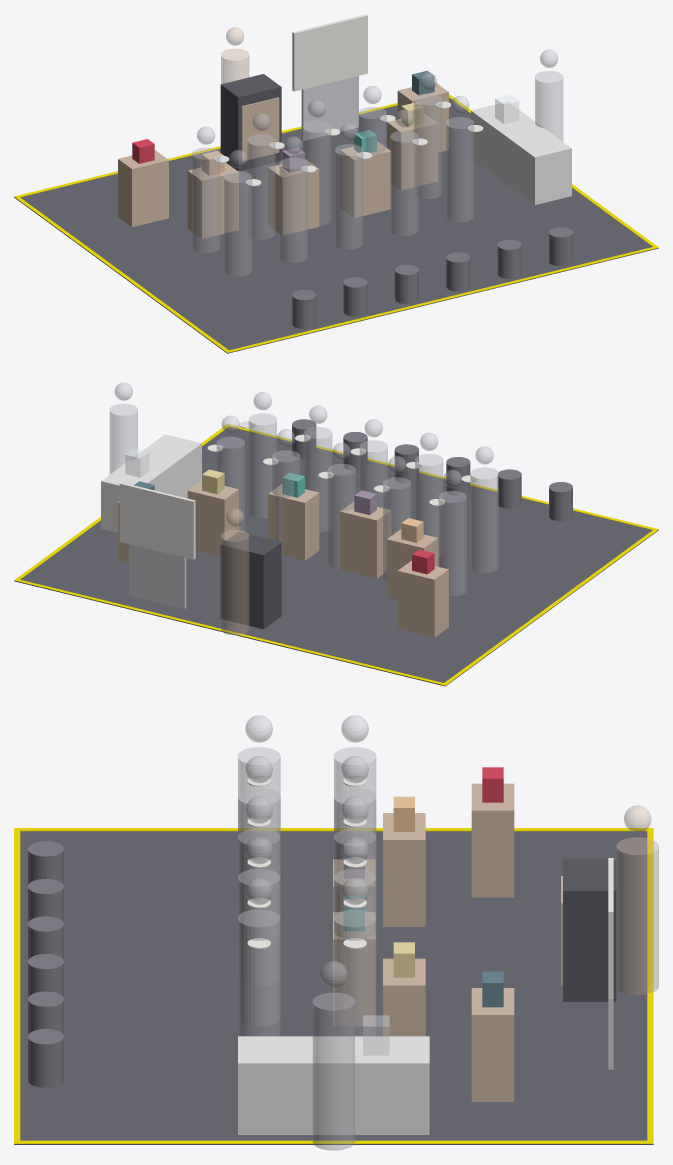
File: G04_HARAJ.glb
3 renders of one model, top to bottom at view 1: azimuth 30°, elevation 25°; view 2: azimuth 150°, elevation 25°; view 3: azimuth 270°, elevation 25°, orthographic. The views are drawn at different scales.
Parts seen in each view (by area): view 1: floor_area, bank_table, price_board, souq_stall_crate_1, souq_stall_crate_0, auctioneer_podium, souq_stall_crate_3, souq_stall_crate_2, souq_stall_crate_4, trader_9_body, trader_7_body, trader_6_body (+22 smaller); view 2: floor_area, auctioneer_podium, price_board, bank_table, souq_stall_crate_0, souq_stall_crate_2, souq_stall_crate_3, price_board_easel, trader_5_body, auctioneer_body, trader_0_body, trader_9_body (+26 smaller); view 3: floor_area, bank_table, auctioneer_podium, banker_body, auctioneer_body, trader_8_body, trader_9_body, trader_4_body, souq_stall_crate_0, souq_stall_crate_5, souq_stall_crate_1, souq_stall_crate_3 (+25 smaller).
Part boxes in pixels (left/top/right/bottom): floor_area: left=14, top=98, right=658, bottom=353; bank_table: left=471, top=101, right=571, bottom=204; price_board: left=292, top=14, right=367, bottom=91; souq_stall_crate_1: left=187, top=162, right=238, bottom=238; souq_stall_crate_0: left=118, top=150, right=168, bottom=227; auctioneer_podium: left=220, top=74, right=281, bottom=171; souq_stall_crate_3: left=340, top=141, right=391, bottom=217; souq_stall_crate_2: left=268, top=158, right=319, bottom=235; souq_stall_crate_4: left=387, top=113, right=438, bottom=190; trader_9_body: left=445, top=117, right=474, bottom=222; trader_7_body: left=335, top=144, right=363, bottom=249; trader_6_body: left=279, top=157, right=307, bottom=262; floor_area: left=14, top=427, right=658, bottom=686; auctioneer_podium: left=220, top=532, right=281, bottom=629; price_board: left=119, top=482, right=195, bottom=559; bank_table: left=101, top=434, right=201, bottom=532; souq_stall_crate_0: left=397, top=560, right=448, bottom=637; souq_stall_crate_2: left=340, top=501, right=391, bottom=578; souq_stall_crate_3: left=268, top=484, right=319, bottom=560; price_board_easel: left=129, top=544, right=186, bottom=608; trader_5_body: left=470, top=467, right=498, bottom=572; auctioneer_body: left=221, top=529, right=249, bottom=635; trader_0_body: left=438, top=491, right=466, bottom=596; trader_9_body: left=248, top=413, right=276, bottom=518; floor_area: left=14, top=831, right=653, bottom=1144; bank_table: left=238, top=1036, right=429, bottom=1134; auctioneer_podium: left=563, top=859, right=616, bottom=1001; banker_body: left=312, top=992, right=354, bottom=1150; auctioneer_body: left=616, top=837, right=658, bottom=995; trader_8_body: left=238, top=868, right=280, bottom=1026; trader_9_body: left=238, top=909, right=280, bottom=1036; trader_4_body: left=334, top=909, right=376, bottom=1036; souq_stall_crate_0: left=471, top=783, right=514, bottom=897; souq_stall_crate_5: left=471, top=988, right=514, bottom=1101; souq_stall_crate_1: left=383, top=813, right=425, bottom=926; souq_stall_crate_3: left=333, top=912, right=375, bottom=1025.
Bounding box in the file's own units: 7.15 × 1.87 × 6.05.
